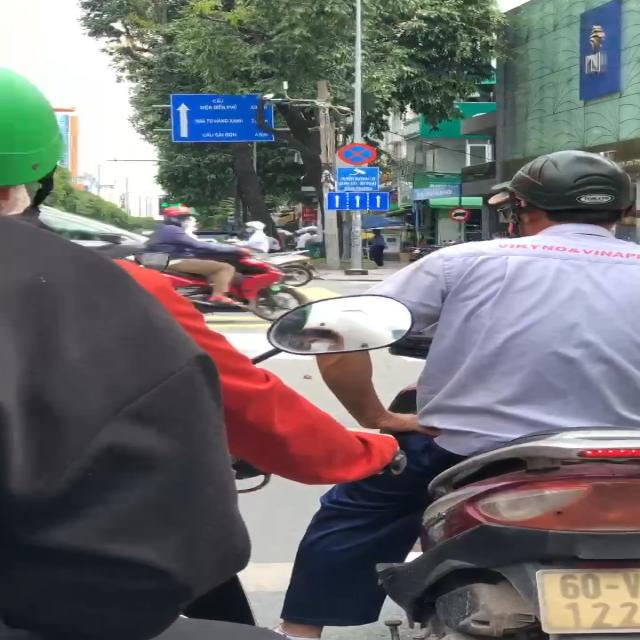Bien bao cam dung xe va do xe: (329, 141, 380, 165)
